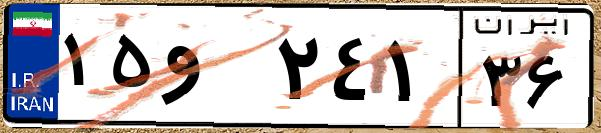1: (385, 28, 445, 110), (57, 26, 110, 100)
2: (270, 28, 330, 110)
3: (475, 38, 525, 113)
4: (330, 28, 385, 110)
5: (110, 28, 158, 98)
6: (525, 38, 570, 115)
و: (158, 20, 270, 120)
